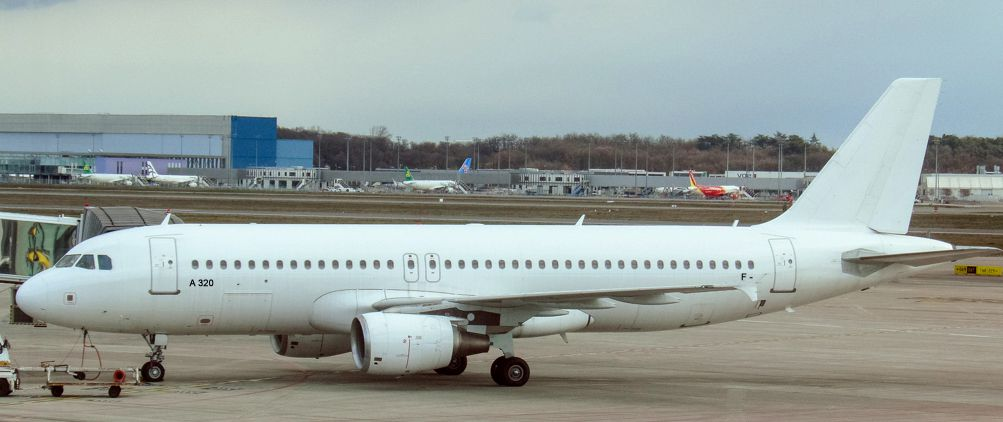Aeronef_commercial: (11, 66, 1003, 395)
